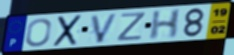8: (182, 7, 208, 39)
H: (148, 8, 183, 41)
O: (24, 18, 53, 48)
V: (90, 12, 120, 45)
X: (51, 13, 84, 48)
Z: (116, 11, 148, 42)
